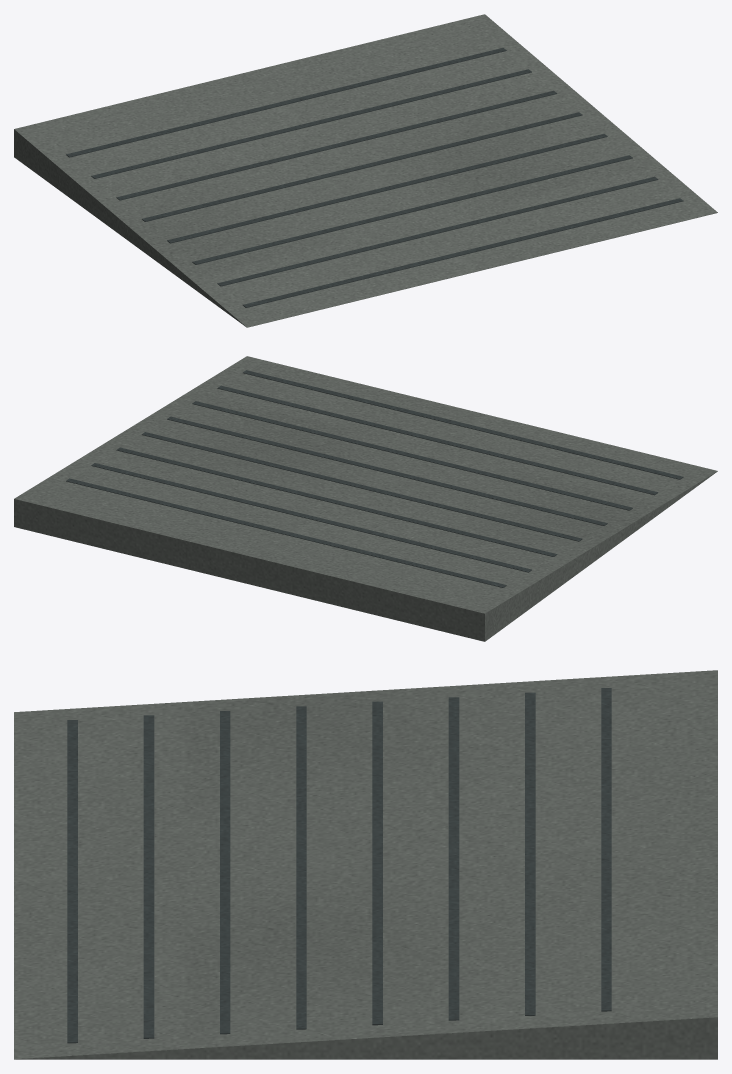
File: gallery_access_ramp.glb
3 views of the same model, one above another, from view 1: azimuth 30°, elevation 25°; view 2: azimuth 150°, elevation 25°; view 3: azimuth 270°, elevation 25° (orthographic). The views are drawn at different scales.
Visible parts, largest first — view 1: gallery_access_ramp; view 2: gallery_access_ramp; view 3: gallery_access_ramp.
Part boxes in pixels (bbox=[...]): gallery_access_ramp: bbox=[14, 14, 717, 327]; gallery_access_ramp: bbox=[14, 356, 717, 641]; gallery_access_ramp: bbox=[14, 670, 717, 1059].
Bounding box in the file's own units: 1.4 × 0.08 × 1.2.
Materials: 2 (2 with a texture image).
